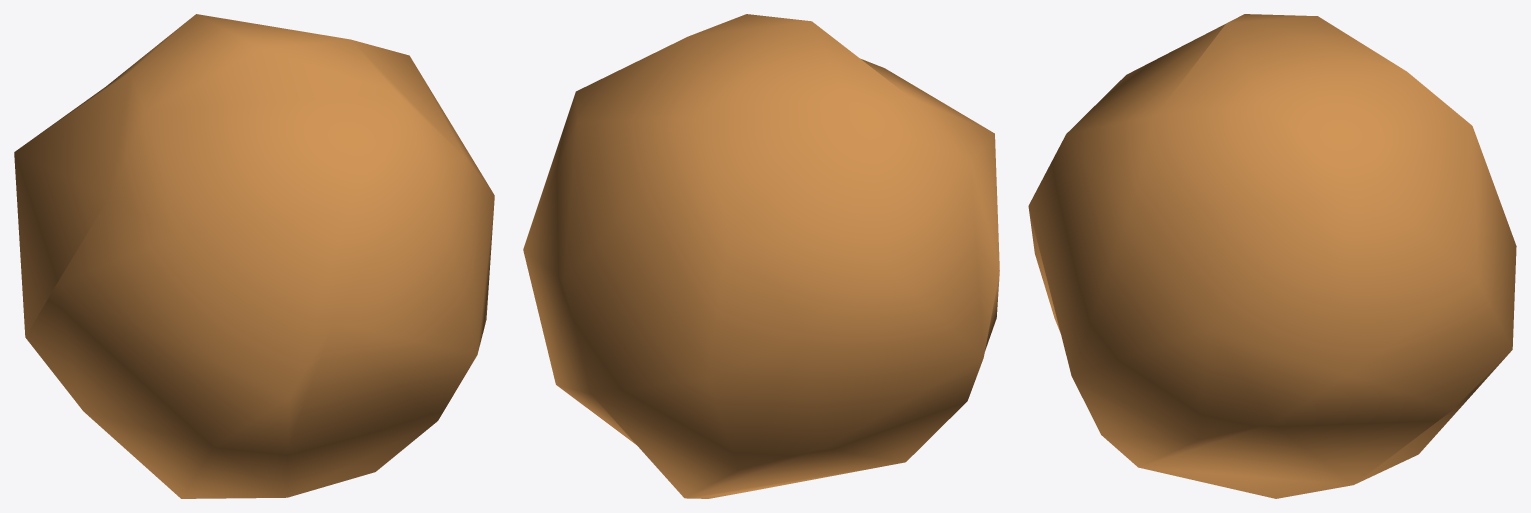
The model's file is battery acid.fbx.
The picture shows the model from 3 angles, left to right: view 1: azimuth 30°, elevation 25°; view 2: azimuth 150°, elevation 25°; view 3: azimuth 270°, elevation 25°; orthographic projection.
Visible parts, largest first — view 1: Icosphere; view 2: Icosphere; view 3: Icosphere.
Boxes of the visible parts, x1,y1,x2,y2 form: Icosphere: [14, 14, 494, 498]; Icosphere: [523, 14, 999, 498]; Icosphere: [1028, 14, 1516, 498].
Bounding box in the file's own units: 3.82 × 3.87 × 3.72.
